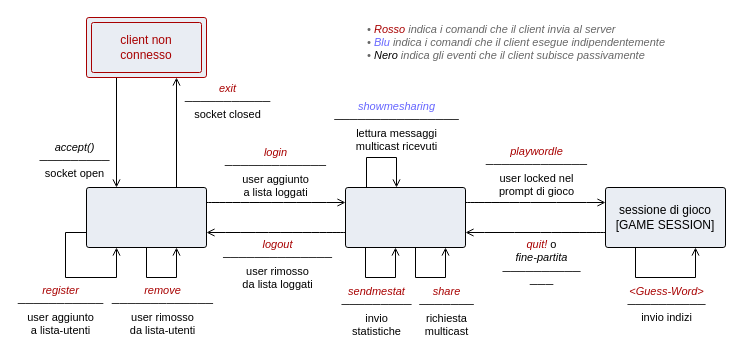
Image size: 743x355. Some labels were removed from this diagram. Each missing label, with the centre of its shape:
"sessione di login [LOGIN SESSION]" belongs at [405,217].
"sessione primaria [MAIN SESSION]" belongs at [146,217].
